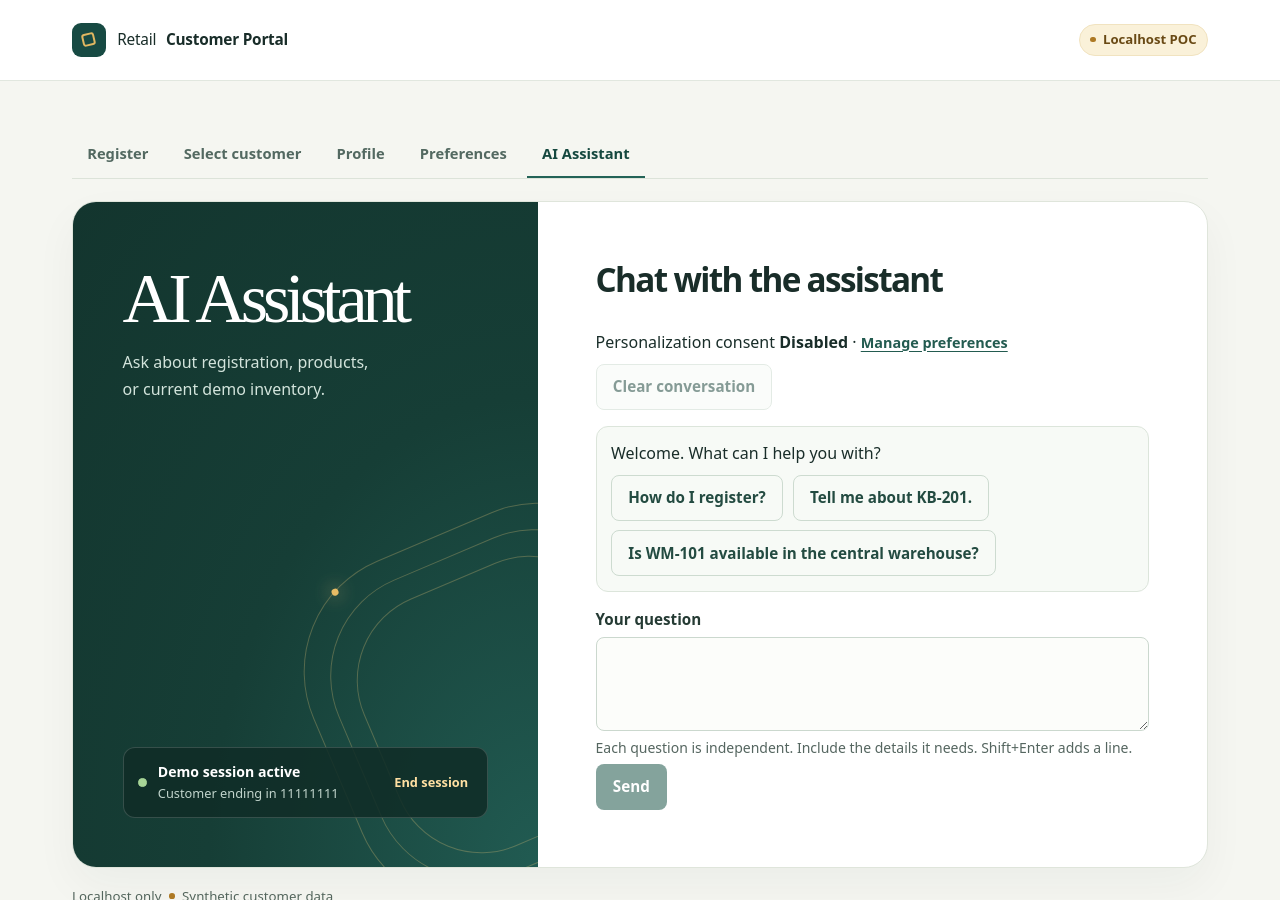
Test: shows a safe ADK_TIMEOUT message and retries with a fresh token
This screenshot has width=1280, height=900.
Type "How do I register?" into the text box labelled "Your question". click: x=872, y=684
box: [596,637,1149,732]
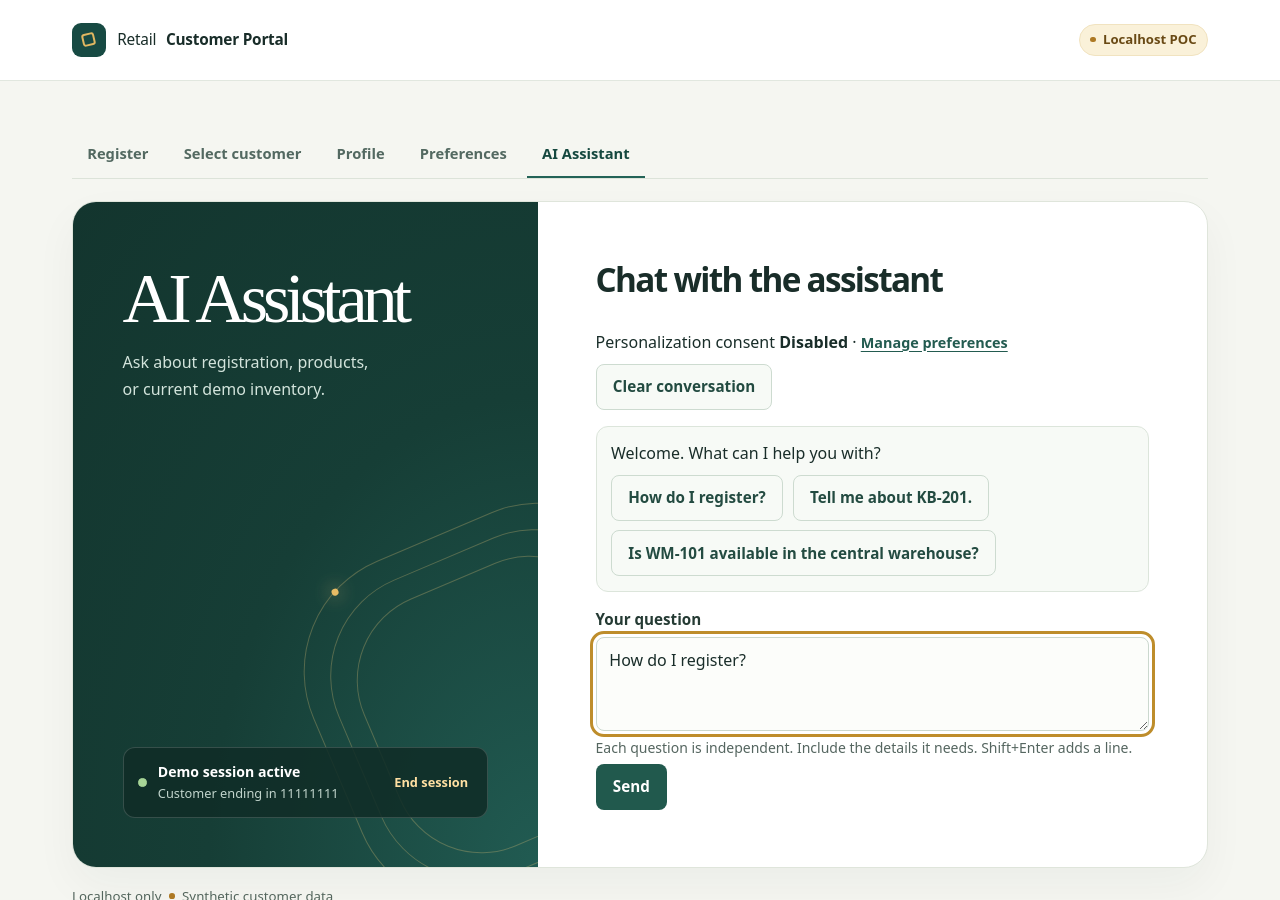
Click the button "Send". click: x=631, y=787
box: [596,764,667,810]
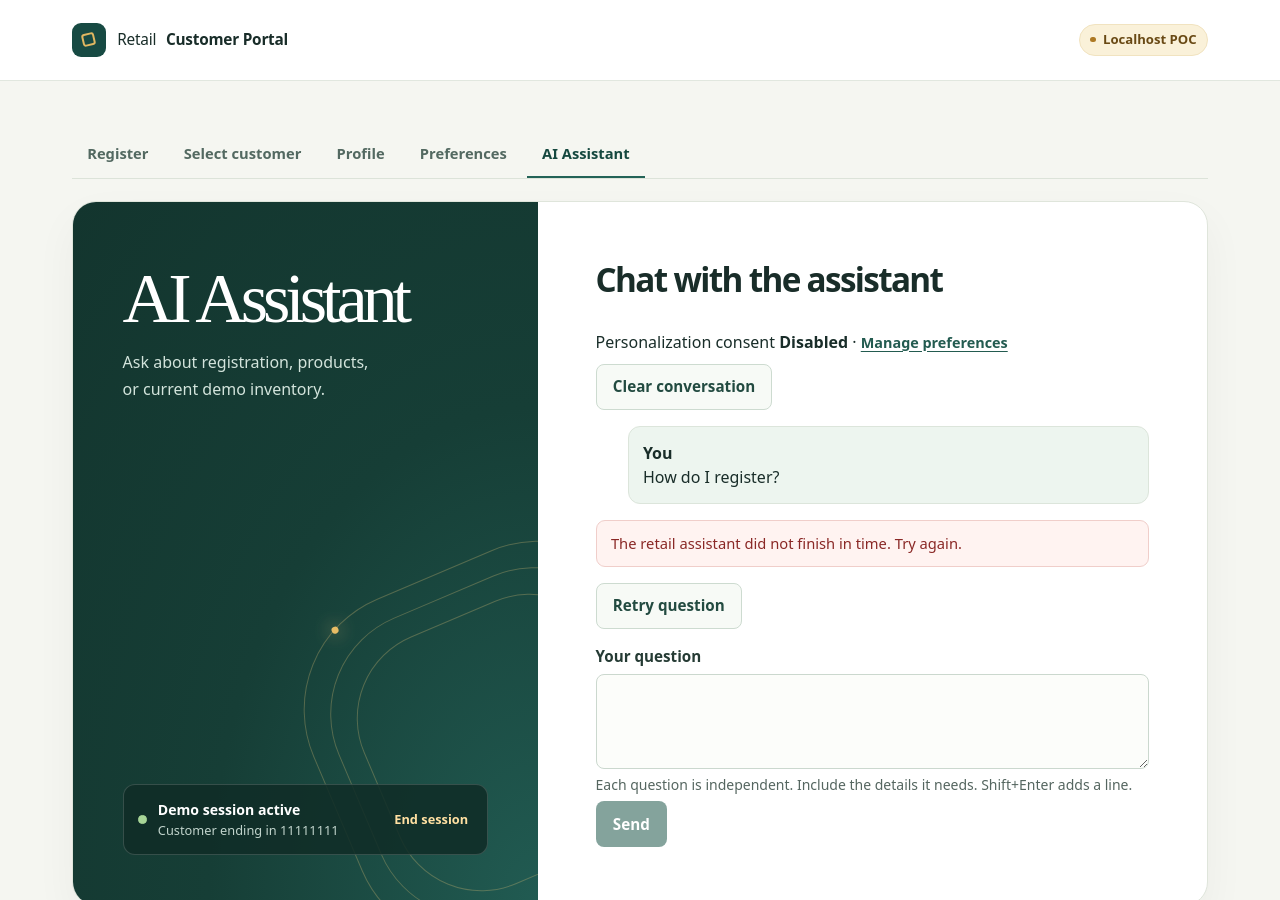
Expected: the message shows "did not finish in time", [611,533,962,553]
Click the button "Retry question". click: x=669, y=606
box: [596,583,742,629]
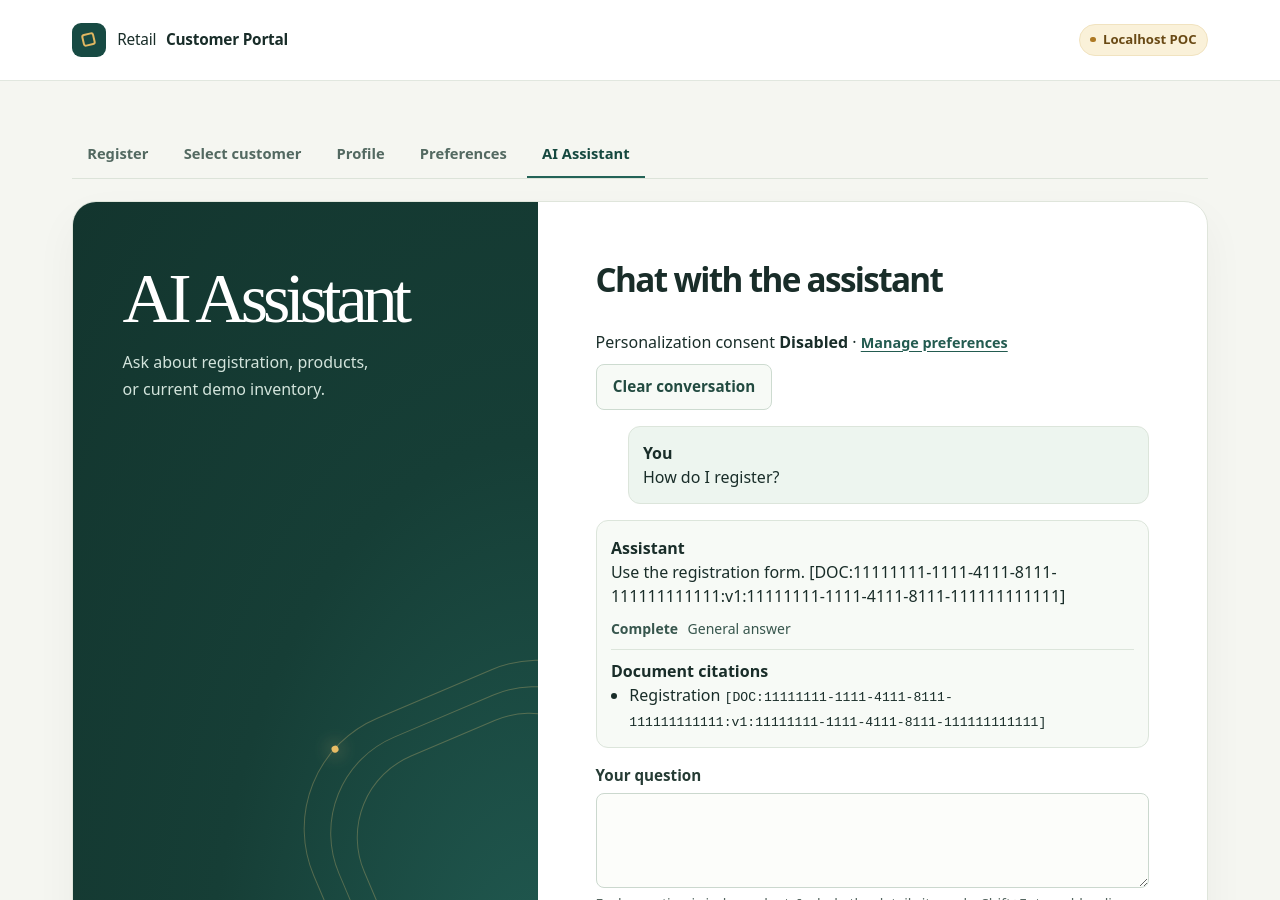
Expected: the heading "Document citations" is shown, [611,660,768,682]
